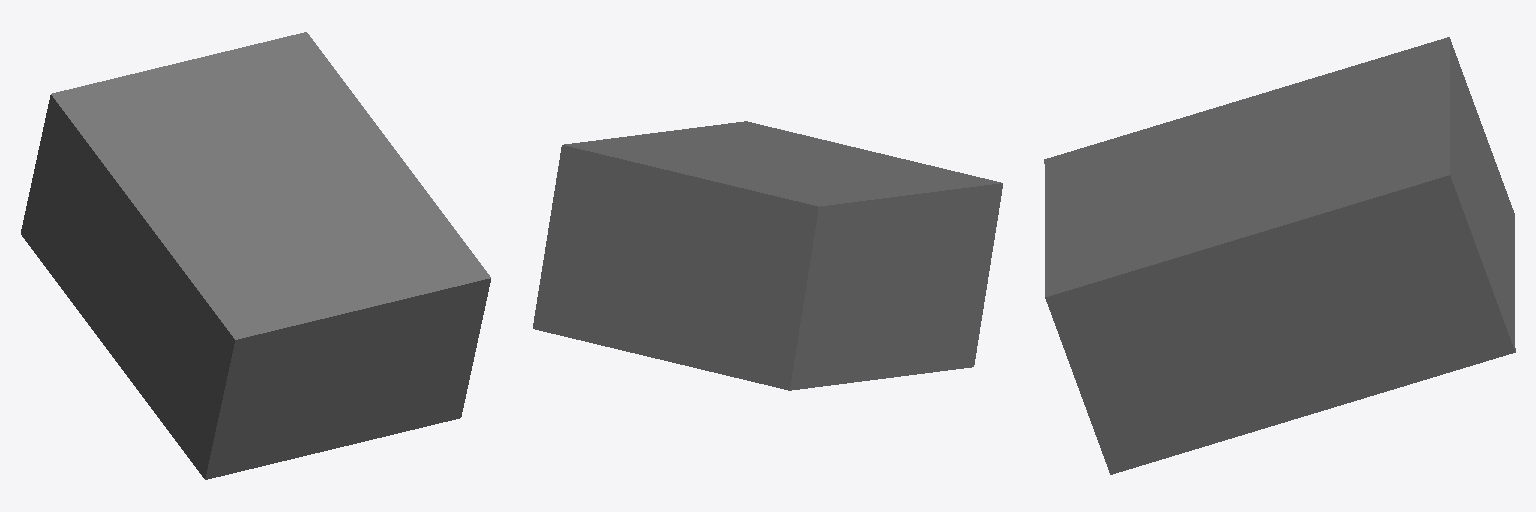
The robot description file, URDF, robot "brick_x-3-0":
<?xml version="1.0"?>
<robot name="brick_x-3-0">
  <link name="base">
    <visual>
      <geometry>
        <mesh filename="brick_x-3-0.obj" scale="1 1 1"/>
      </geometry>
      <material name="gray">
        <color rgba="0.5 0.5 0.5 1.0"/>
      </material>
    </visual>
    <collision>
      <geometry>
        <mesh filename="brick_x-3-0.obj" scale="1 1 1"/>
      </geometry>
    </collision>
    <inertial>
      <mass value="1.000"/>
      <inertia
          ixx="0.014097" ixy="0.000000" ixz="0.000000"
          iyy="0.009199" iyz="0.000000"
          izz="0.013935"/>
      <origin xyz="-0.077785 -0.151901 1.025597" rpy="0 0 0"/>
    </inertial>
  </link>
</robot>

--- What the picture shows (computed from the rendered views, not written in the file) ---
3 views of the same robot in one strip: view 1: azimuth 30°, elevation 25°; view 2: azimuth 150°, elevation 25°; view 3: azimuth 270°, elevation 25° (orthographic).
Model brick_x-3-0 with 1 links and 0 joints (none), rooted at base, posed every joint at zero.
Visible links, largest first — view 1: base; view 2: base; view 3: base.
Link boxes in pixels (<box>): base: <box>21,32,490,479</box>; base: <box>533,121,1002,390</box>; base: <box>1044,37,1515,474</box>.
Size in the robot's own frame: 0.2329 by 0.3361 by 0.237 metres.
Meshes: 1 distinct files referenced, 1 mesh visuals loaded (1 OBJ).
